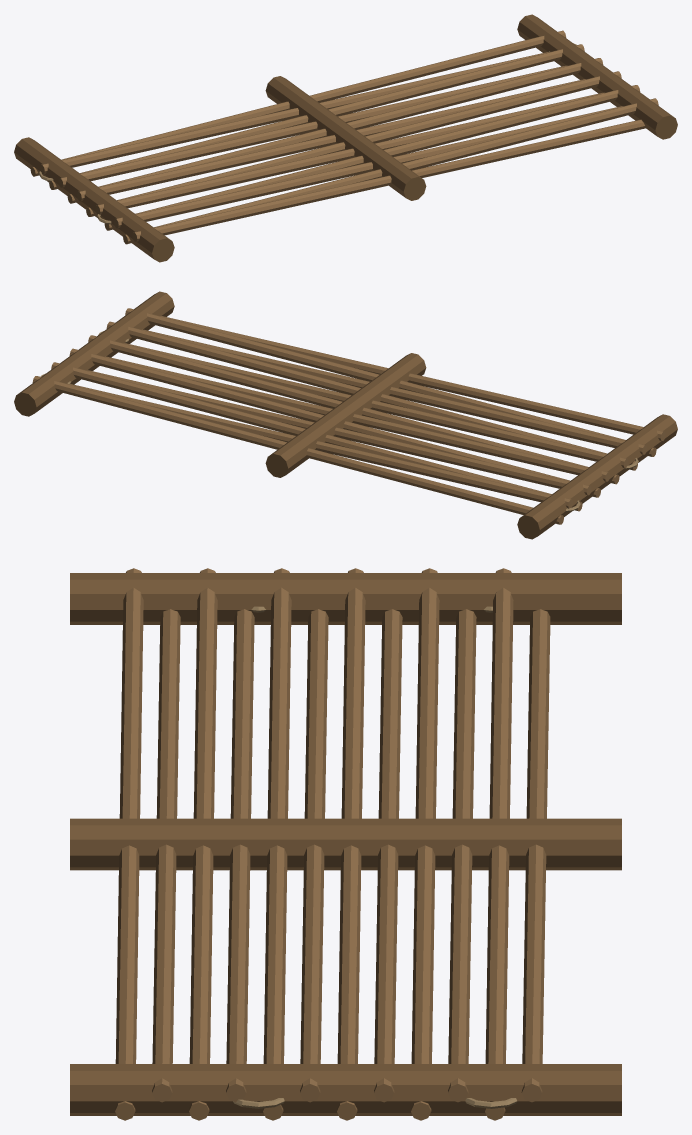
The model's file is wall_wattle_straight.glb.
3 renders of one model, top to bottom at view 1: azimuth 30°, elevation 25°; view 2: azimuth 150°, elevation 25°; view 3: azimuth 270°, elevation 25°, orthographic. The views are drawn at different scales.
Visible parts, largest first — view 1: world; view 2: world; view 3: world.
Boxes of the visible parts, <box> form: world: <box>14,14,677,262</box>; world: <box>14,291,677,539</box>; world: <box>70,568,621,1120</box>.
Size of the model in its own units: 4.27 by 0.1712 by 1.9.
